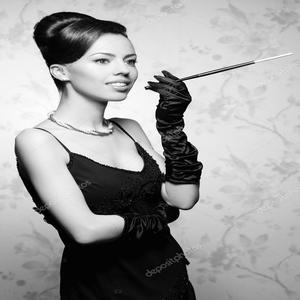cigarette: (240, 48, 295, 69)
